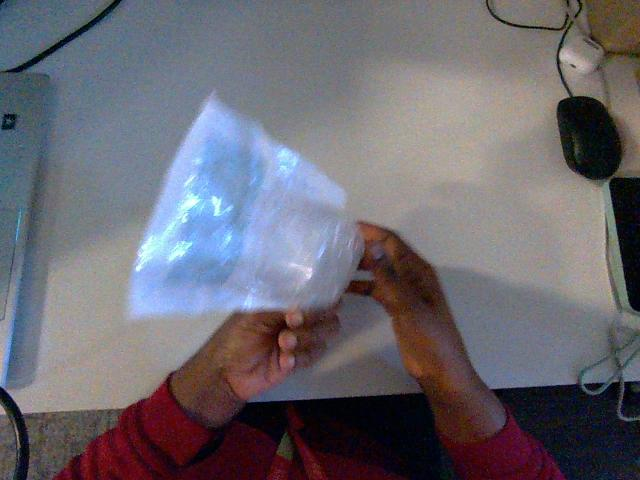gallipot: (130, 96, 363, 316)
